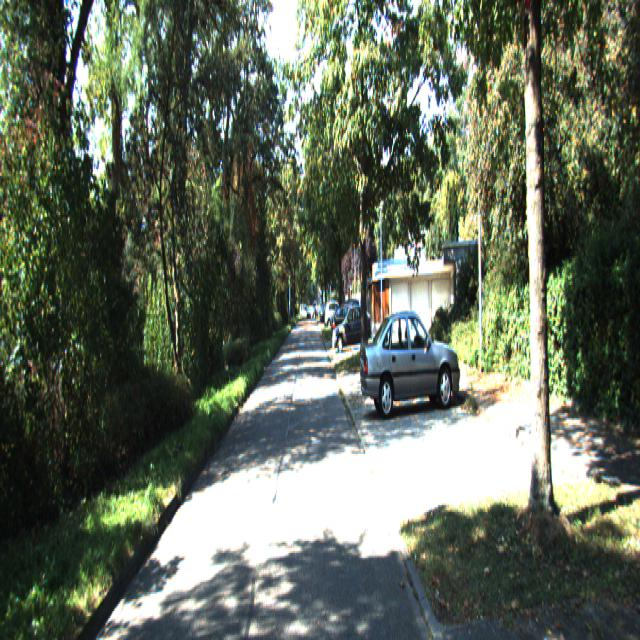Car: (359, 301, 461, 416), (333, 303, 372, 352)
